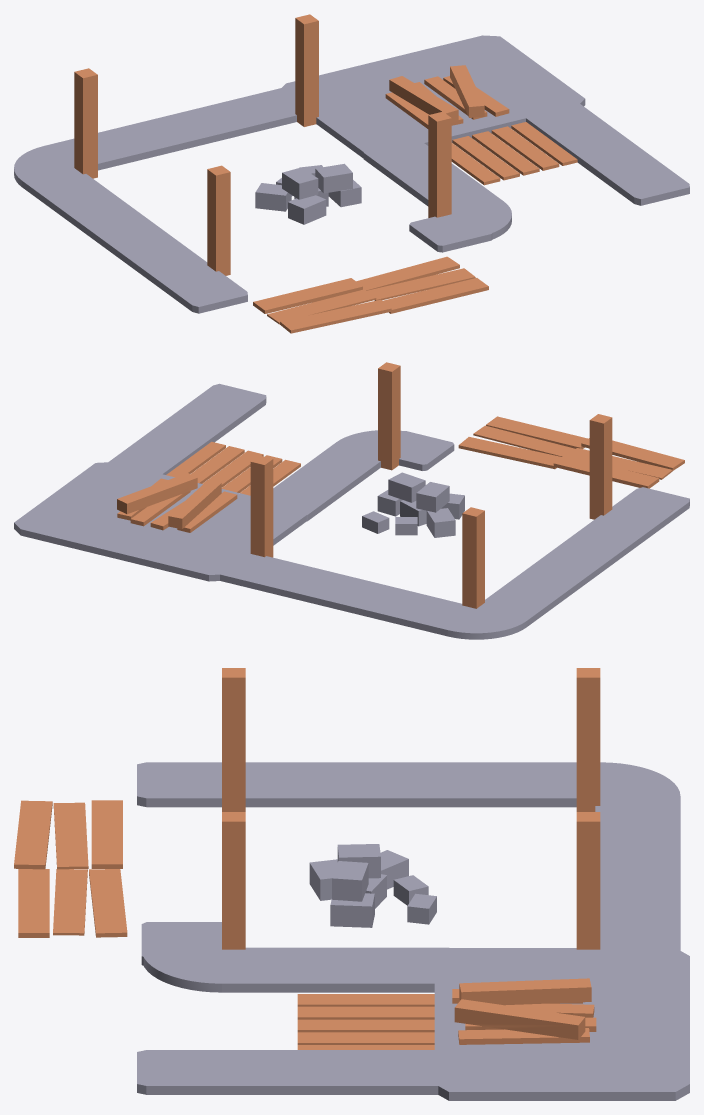
The model's file is Place_construct.fbx.
3 renders of one model, top to bottom at view 1: azimuth 30°, elevation 25°; view 2: azimuth 150°, elevation 25°; view 3: azimuth 270°, elevation 25°, orthographic. The views are drawn at different scales.
Visible parts, largest first — view 1: floor_square_372, structure_poles_401, planks_floor_403, planks_floorHalf_406, debris_bricks_419, planks_floorHalf_407, floor_square_386, debris_wood_418, floor_square_391, floor_square_374, floor_square_389, floor_square_390 (+8 smaller); view 2: floor_square_372, structure_poles_401, debris_bricks_419, debris_wood_418, planks_floorHalf_407, floor_square_373, floor_square_374, floor_square_386, floor_square_389, floor_square_390, floor_square_391, planks_floor_403 (+8 smaller); view 3: floor_square_372, structure_poles_401, debris_wood_418, planks_floor_403, floor_square_386, floor_square_396, floor_square_390, debris_bricks_419, floor_square_387, planks_floorHalf_407, planks_floorHalf_406, floor_square_389 (+8 smaller).
Boxes of the visible parts, x1=… form: floor_square_372: x1=279, y1=35, x2=585, y2=158; structure_poles_401: x1=74, y1=14, x2=451, y2=275; planks_floor_403: x1=451, y1=122, x2=577, y2=185; planks_floorHalf_406: x1=253, y1=278, x2=391, y2=333; debris_bricks_419: x1=255, y1=163, x2=361, y2=224; planks_floorHalf_407: x1=356, y1=256, x2=488, y2=313; floor_square_386: x1=577, y1=140, x2=689, y2=205; debris_wood_418: x1=385, y1=65, x2=509, y2=128; floor_square_391: x1=135, y1=248, x2=247, y2=313; floor_square_374: x1=138, y1=97, x2=276, y2=151; floor_square_389: x1=22, y1=165, x2=133, y2=228; floor_square_390: x1=78, y1=207, x2=190, y2=270; floor_square_372: x1=14, y1=462, x2=306, y2=581; structure_poles_401: x1=250, y1=362, x2=612, y2=608; debris_bricks_419: x1=362, y1=472, x2=464, y2=537; debris_wood_418: x1=117, y1=473, x2=237, y2=532; planks_floorHalf_407: x1=458, y1=416, x2=587, y2=469; floor_square_373: x1=351, y1=584, x2=478, y2=636; floor_square_374: x1=255, y1=561, x2=387, y2=613; floor_square_386: x1=158, y1=383, x2=266, y2=442; floor_square_389: x1=473, y1=566, x2=581, y2=626; floor_square_390: x1=528, y1=527, x2=635, y2=587; floor_square_391: x1=583, y1=487, x2=689, y2=547; planks_floor_403: x1=166, y1=441, x2=300, y2=495; floor_square_372: x1=434, y1=948, x2=689, y2=1100; structure_poles_401: x1=222, y1=668, x2=600, y2=949; debris_wood_418: x1=452, y1=978, x2=596, y2=1044; planks_floor_403: x1=297, y1=994, x2=434, y2=1049; floor_square_386: x1=137, y1=1050, x2=306, y2=1094; floor_square_396: x1=288, y1=947, x2=458, y2=992; floor_square_390: x1=288, y1=762, x2=458, y2=807; debris_bricks_419: x1=309, y1=844, x2=436, y2=927; floor_square_387: x1=288, y1=1050, x2=458, y2=1094; planks_floorHalf_407: x1=18, y1=869, x2=127, y2=937; planks_floorHalf_406: x1=14, y1=800, x2=122, y2=869; floor_square_389: x1=439, y1=762, x2=609, y2=807.
Size of the model in its own units: 51.56 by 10.36 by 44.69.
